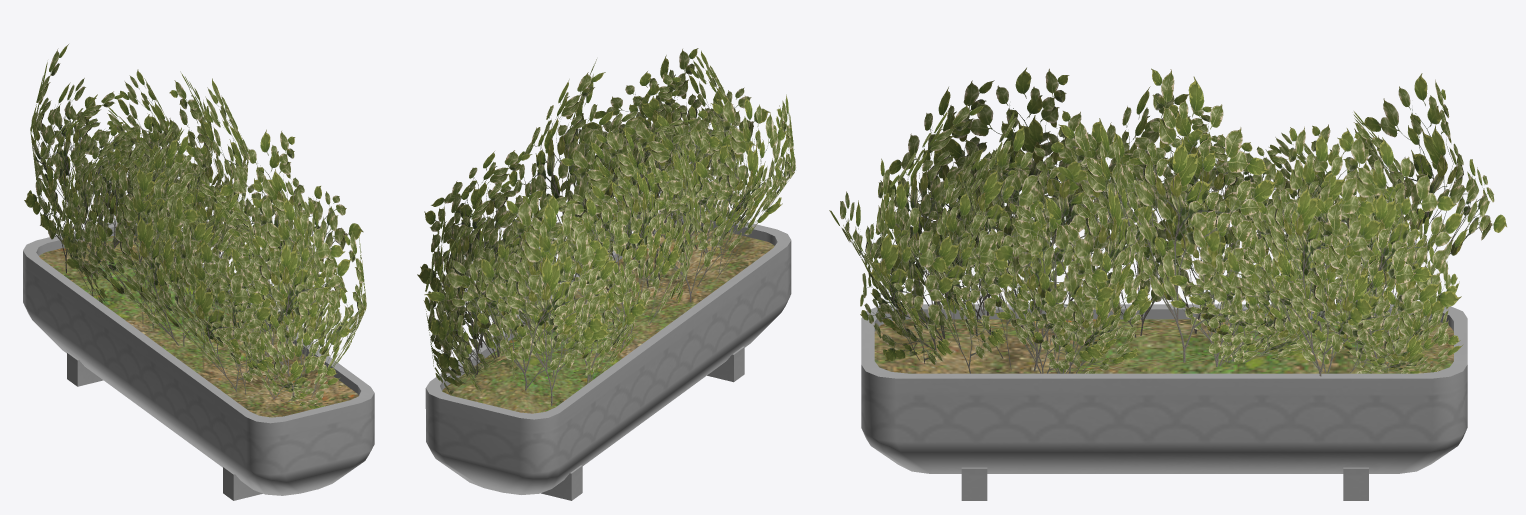
The model's file is MB_Pot_Flower_09.fbx.
3 renders of one model, left to right at view 1: azimuth 30°, elevation 25°; view 2: azimuth 150°, elevation 25°; view 3: azimuth 270°, elevation 25°, orthographic. The views are drawn at different scales.
Parts seen in each view (by area): view 1: MB_Pot_Flower_09_LOD0; view 2: MB_Pot_Flower_09_LOD0; view 3: MB_Pot_Flower_09_LOD0.
Part boxes in pixels (<box>): MB_Pot_Flower_09_LOD0: <box>23,44,374,500</box>; MB_Pot_Flower_09_LOD0: <box>417,48,795,500</box>; MB_Pot_Flower_09_LOD0: <box>829,67,1506,500</box>.
Size of what is drawn, in the model's own units: 47 by 78.01 by 105.
